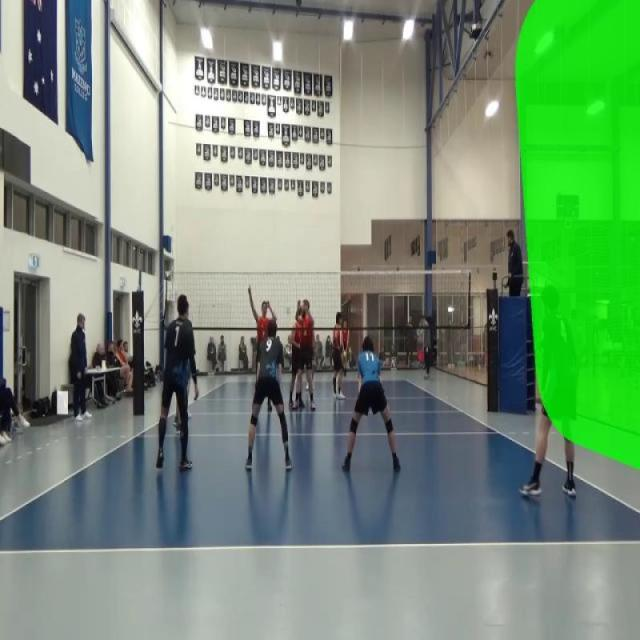volleyball: (342, 350, 348, 359)
